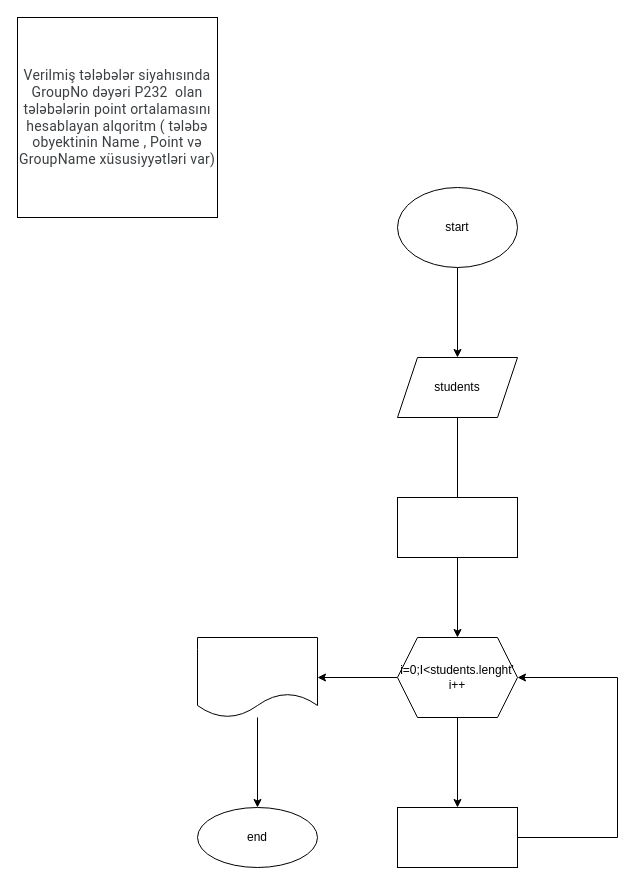
This 643x885 diagram has some shape labels left out. The shapes that lost their labels are listed below. From the top down, each one's centre as x and y in pixels, then its label:
[457,527]: sum=0 count=0
[257,677]: sum/count
[457,837]: sum+=student[i],points count++
